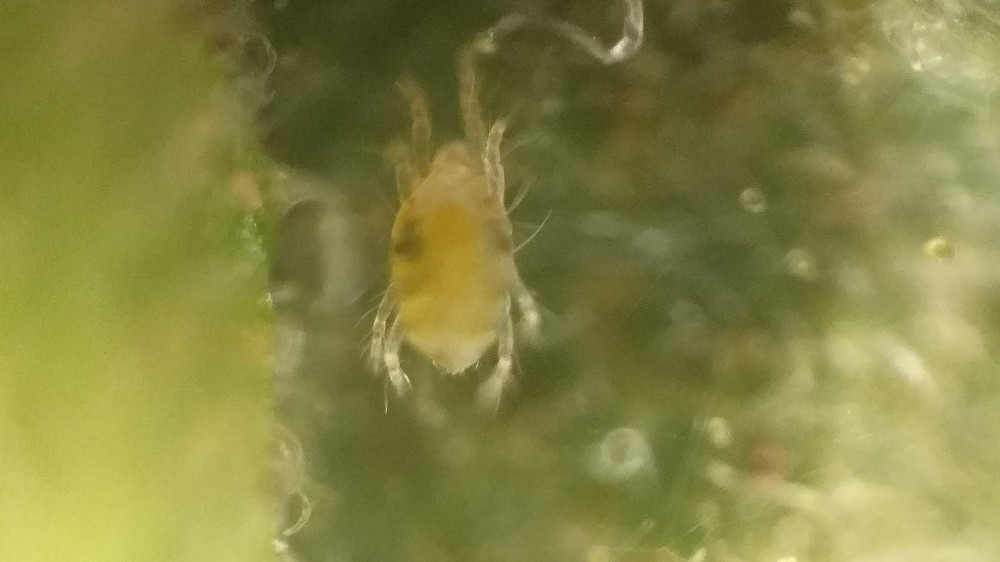Aracnido Rojo: (330, 46, 579, 427)
